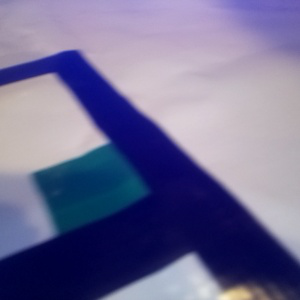top_left: (1, 121, 195, 251)
